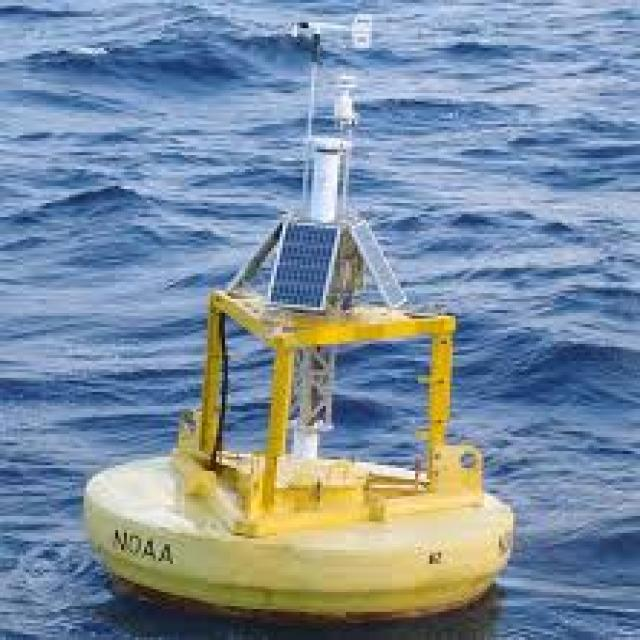marque: (72, 17, 520, 628)
